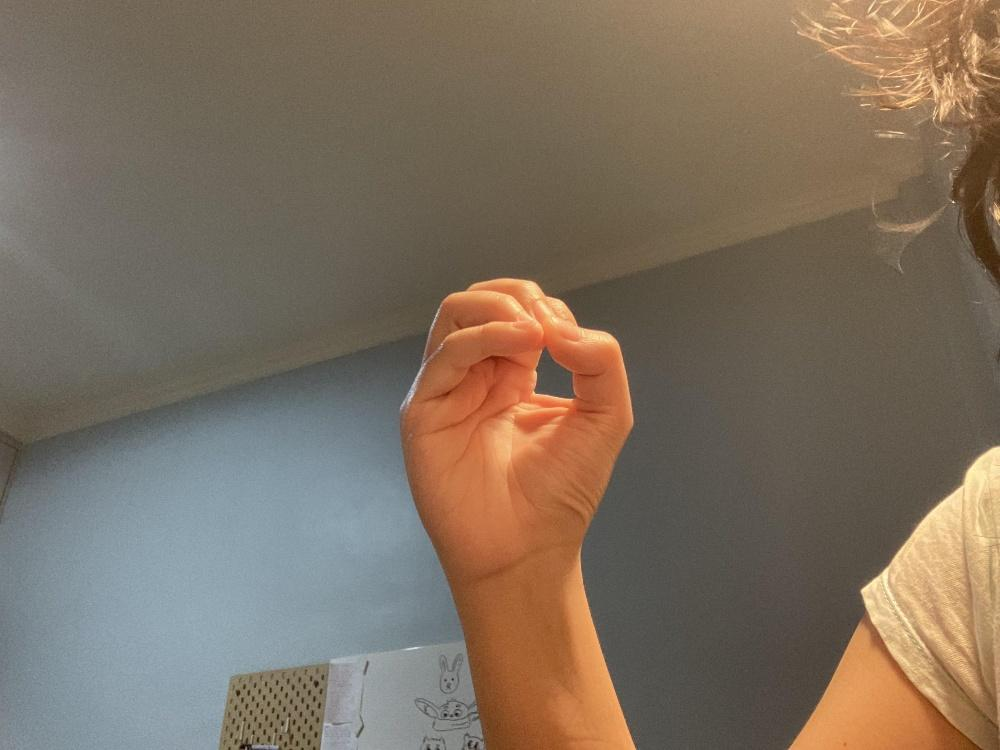o: (399, 277, 633, 583)
